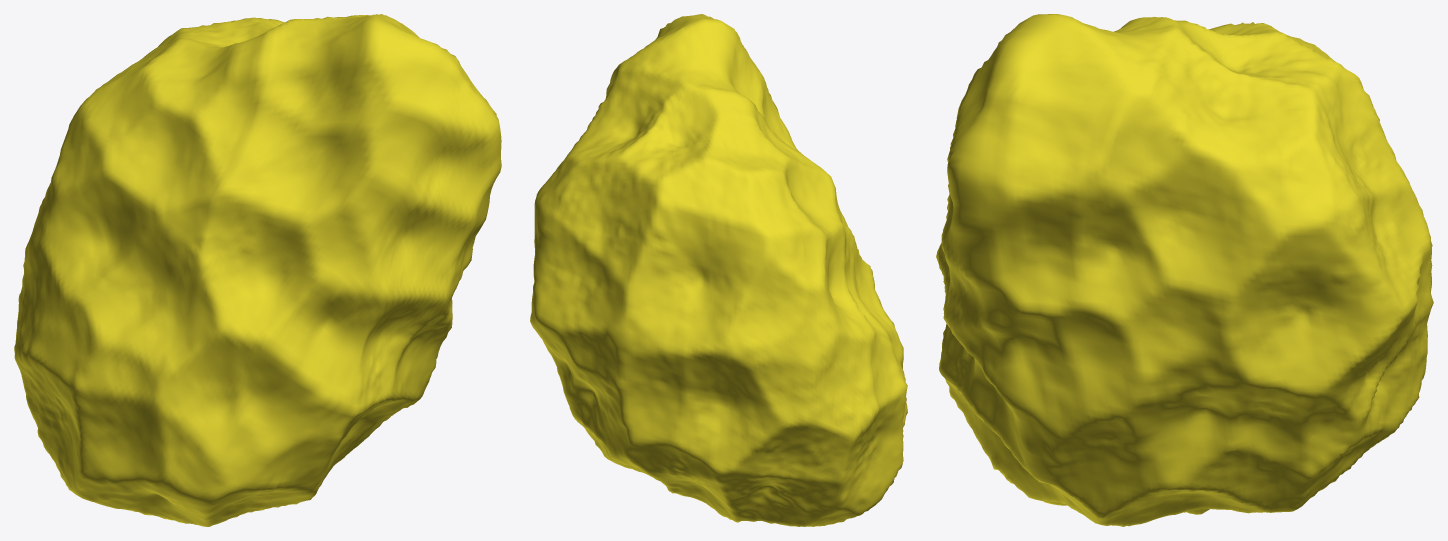
File: asteroide_3.glb
3 renders of one model, left to right at view 1: azimuth 30°, elevation 25°; view 2: azimuth 150°, elevation 25°; view 3: azimuth 270°, elevation 25°, orthographic. The views are drawn at different scales.
Visible parts, largest first — view 1: rock; view 2: rock; view 3: rock.
Boxes of the visible parts, x1,y1,x2,y2 form: rock: (14,14,501,526); rock: (530,14,907,526); rock: (936,14,1433,526).
Size of the model in its own units: 24.57 by 30.52 by 24.35.
